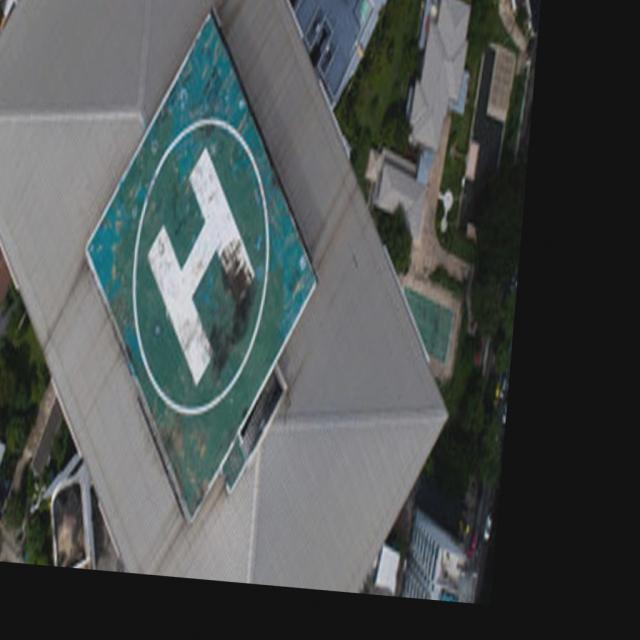helipad: (125, 114, 275, 416)
